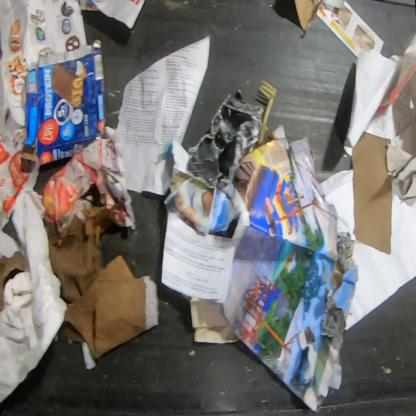cardboard: (42, 205, 160, 361), (20, 39, 106, 167), (0, 250, 30, 312), (384, 143, 415, 202), (292, 0, 324, 33)
